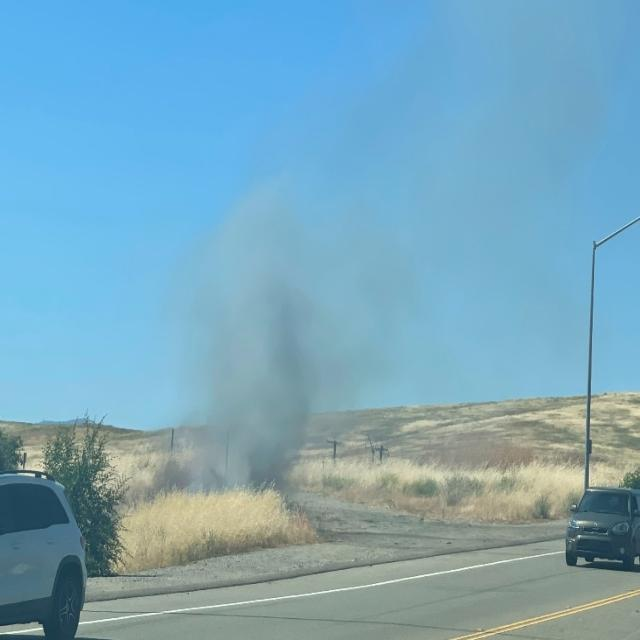smoke: (157, 173, 380, 490)
